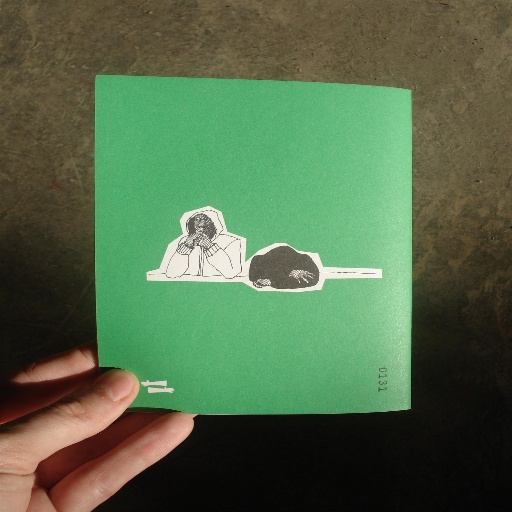hand: (0, 353, 222, 505), (291, 269, 316, 284), (250, 276, 272, 289), (185, 232, 205, 246), (194, 233, 211, 248)
